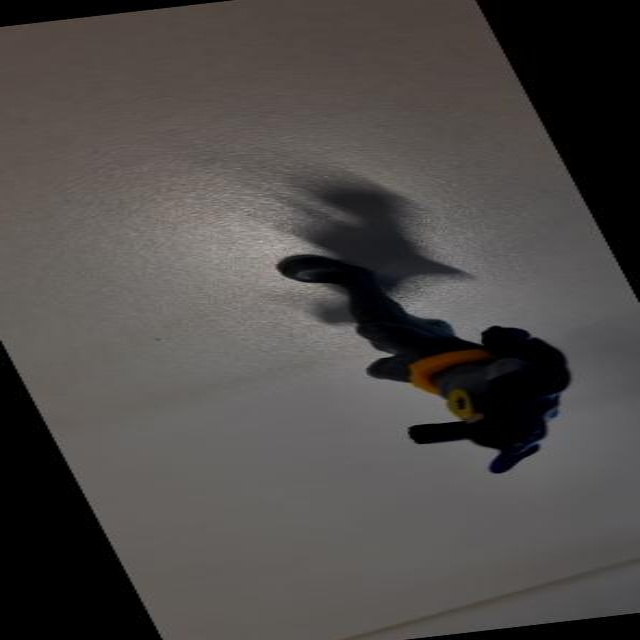Batman: (254, 228, 618, 490)
